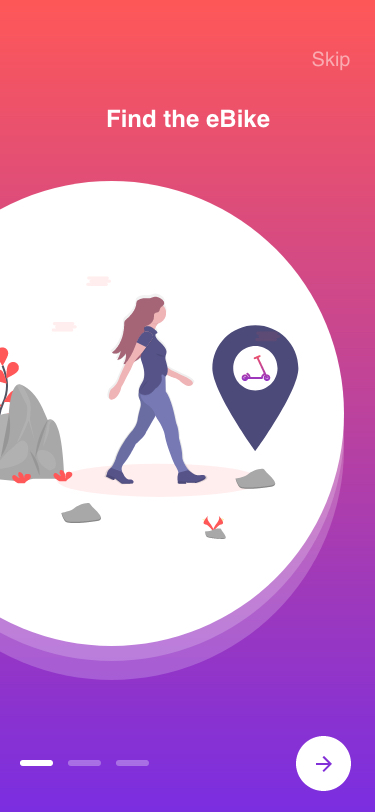Icon: (295, 735, 352, 792)
Image: (1, 276, 299, 540)
PageIndicator: (20, 759, 151, 767)
Text: (108, 110, 271, 129), (312, 51, 351, 72)
